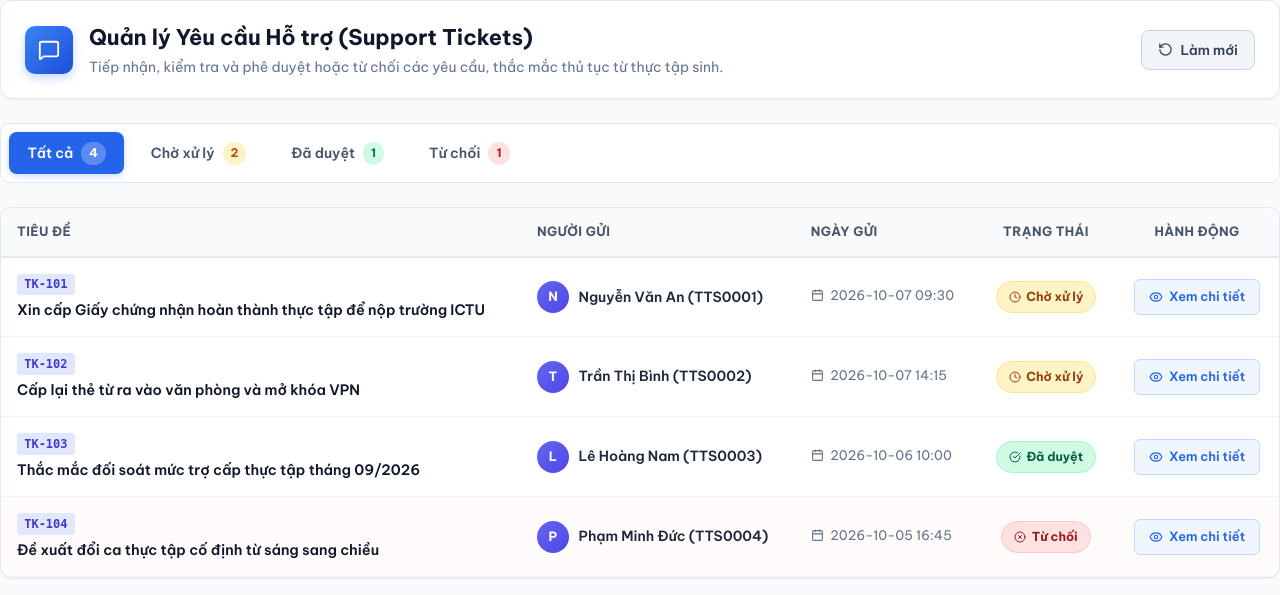
Test: SupportTicketManager Test Suite › 1. Giao diện chính & Tabs lọc trạng thái › lọc dữ liệu chính xác khi chuyển đổi giữa các Tabs lọc
Expected: the row with test id "stm-row-TK-101" is shown, [1, 256, 1279, 337]
Expected: the row with test id "stm-row-TK-102" is shown, [1, 337, 1279, 417]
# Chuyển sang Tab "Chờ xử lý"
Click the tab "Chờ xử lý 2": click(199, 153) [132, 132, 265, 174]
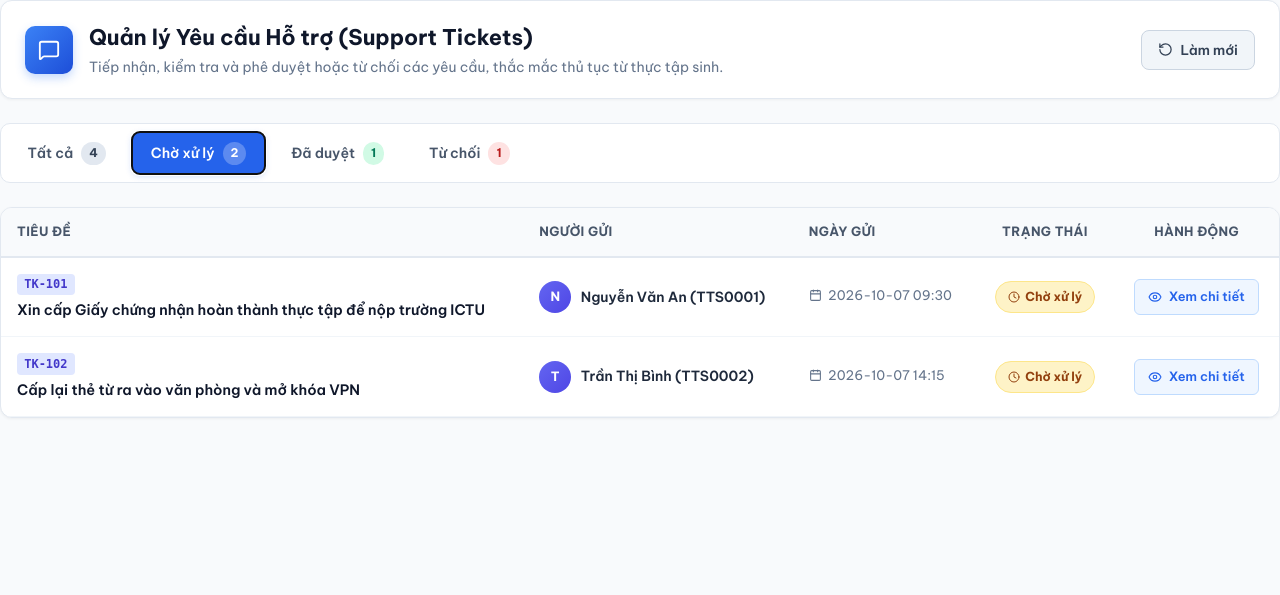
Expected: the row with test id "stm-row-TK-101" is shown, [1, 256, 1279, 337]
Expected: the row with test id "stm-row-TK-103" is gone
Expected: the row with test id "stm-row-TK-104" is gone
# Chuyển sang Tab "Đã duyệt"
Click the tab "Đã duyệt 1": click(338, 153) [273, 132, 403, 174]
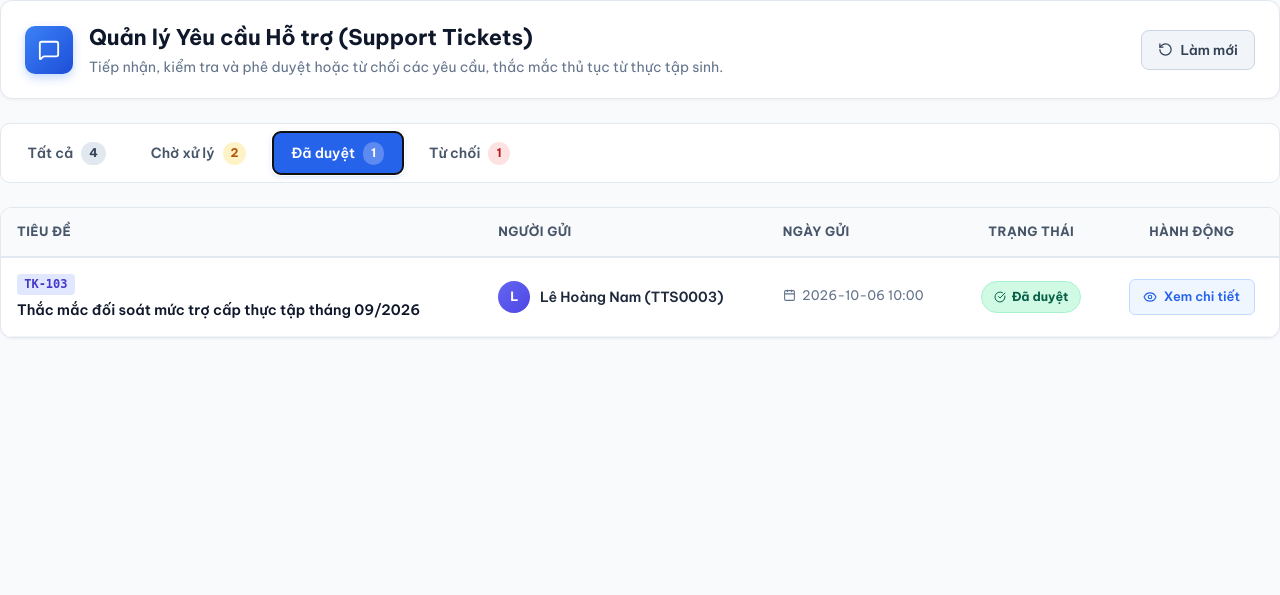
Expected: the row with test id "stm-row-TK-103" is shown, [1, 256, 1279, 337]
Expected: the row with test id "stm-row-TK-101" is gone
# Chuyển sang Tab "Từ chối"
Click the tab "Từ chối 1": click(469, 153) [411, 132, 528, 174]
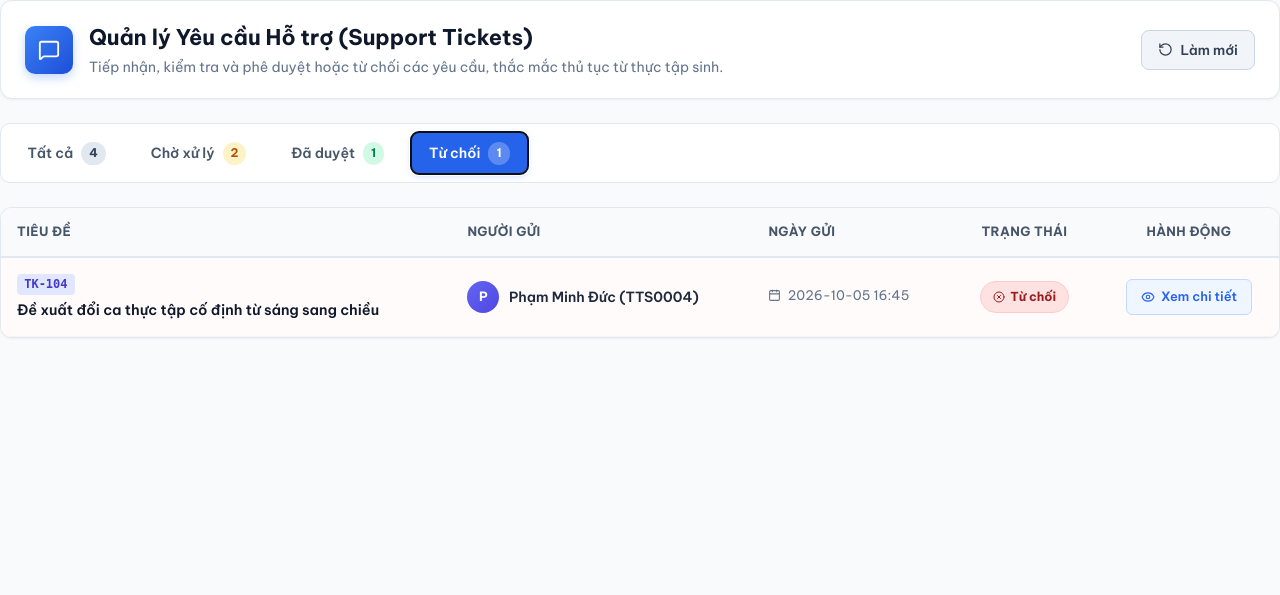
Expected: the row with test id "stm-row-TK-104" is shown, [1, 256, 1279, 337]
